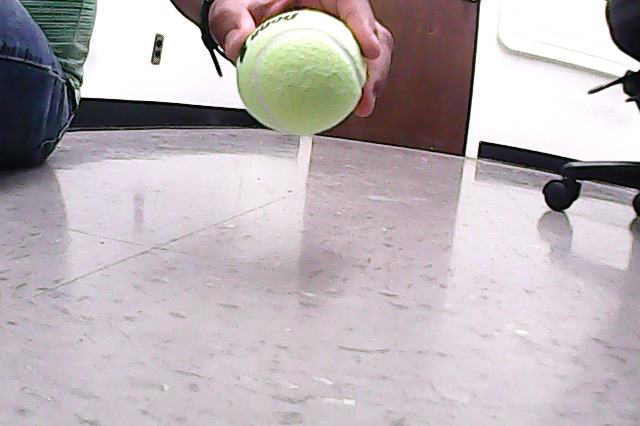ball: (238, 10, 367, 136)
